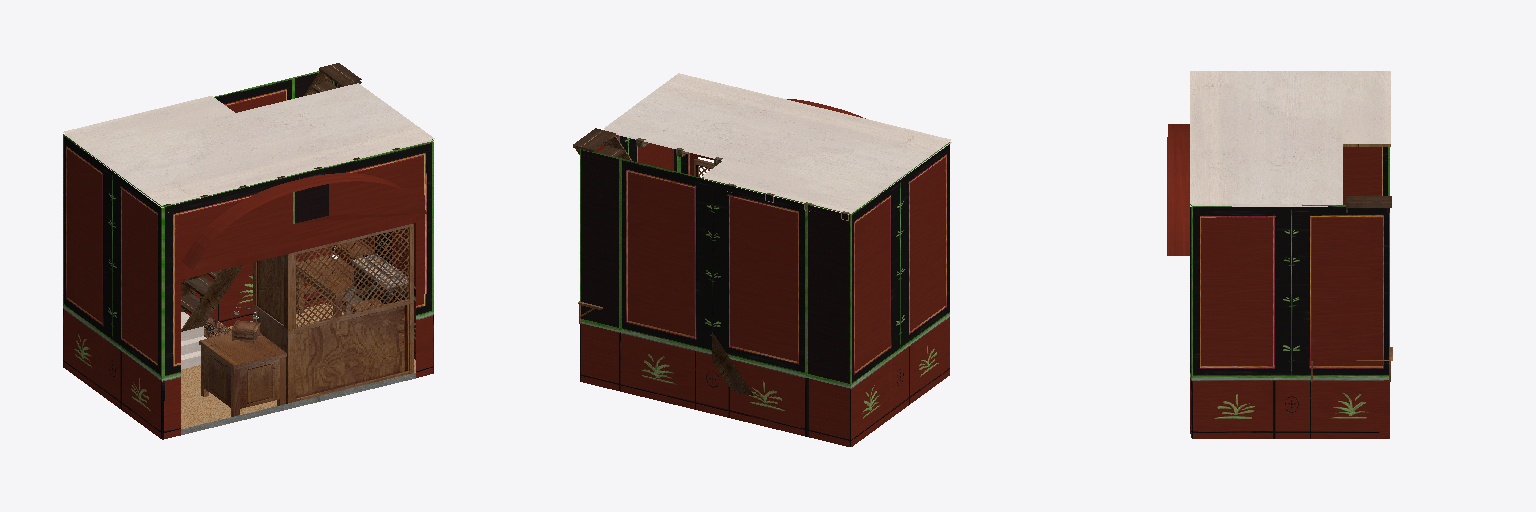
3 renders of one model, left to right at view 1: azimuth 30°, elevation 25°; view 2: azimuth 150°, elevation 25°; view 3: azimuth 270°, elevation 25°, orthographic.
Visible parts, largest first — view 1: MURINTERIEUR, PLANCHER, CLAUSTRA, PETITCOMPTOIR, ESCALIERS, ETABLIS1, PETITEFORGE, CAISSONSOUSBALANCE; view 2: MURINTERIEUR, PLANCHER, ESCALIERS; view 3: MURINTERIEUR, PLANCHER, ESCALIERS.
Boxes of the visible parts, x1,y1,x2,y2 form: MURINTERIEUR: [63, 71, 433, 439]; PLANCHER: [63, 83, 434, 212]; CLAUSTRA: [253, 224, 413, 403]; PETITCOMPTOIR: [199, 333, 286, 416]; ESCALIERS: [181, 63, 361, 369]; ETABLIS1: [296, 254, 353, 316]; PETITEFORGE: [345, 254, 407, 313]; CAISSONSOUSBALANCE: [231, 320, 260, 343]; MURINTERIEUR: [580, 99, 949, 446]; PLANCHER: [604, 73, 951, 220]; ESCALIERS: [573, 128, 753, 395]; MURINTERIEUR: [1167, 124, 1389, 438]; PLANCHER: [1190, 71, 1390, 206]; ESCALIERS: [1346, 196, 1391, 212].
Bounding box in the file's own units: 14.61 × 11.84 × 10.28.
50 materials, 19 textured.